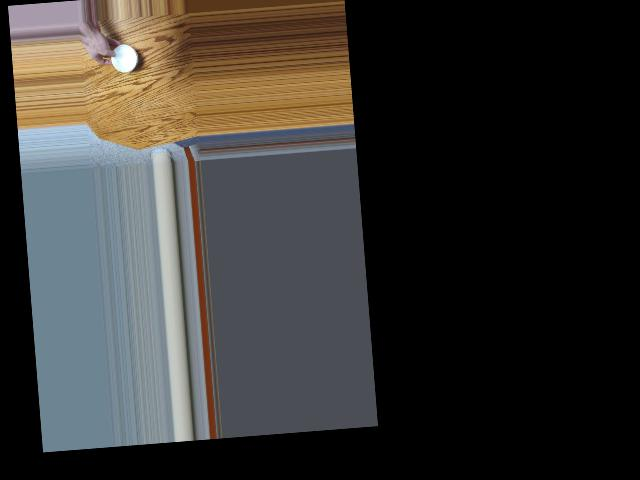cotage: (104, 41, 138, 75)
